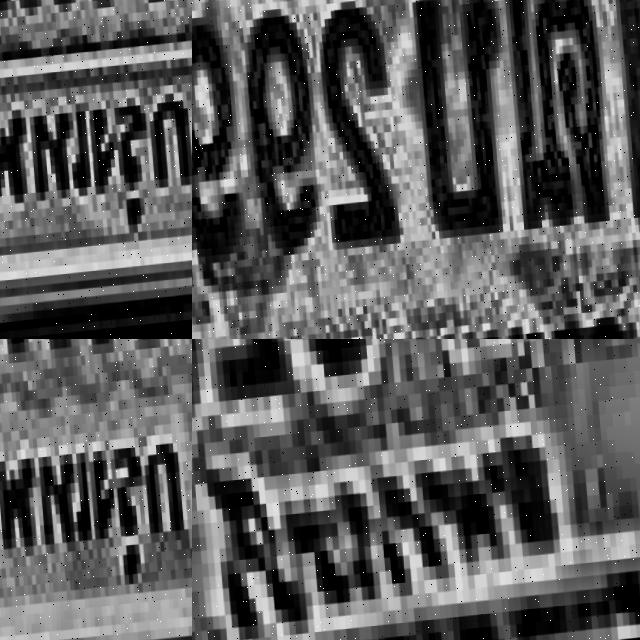license-plate: (192, 0, 640, 339), (192, 339, 640, 640), (0, 0, 192, 332), (0, 339, 192, 640)
